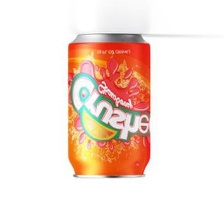can: (61, 26, 162, 182)
